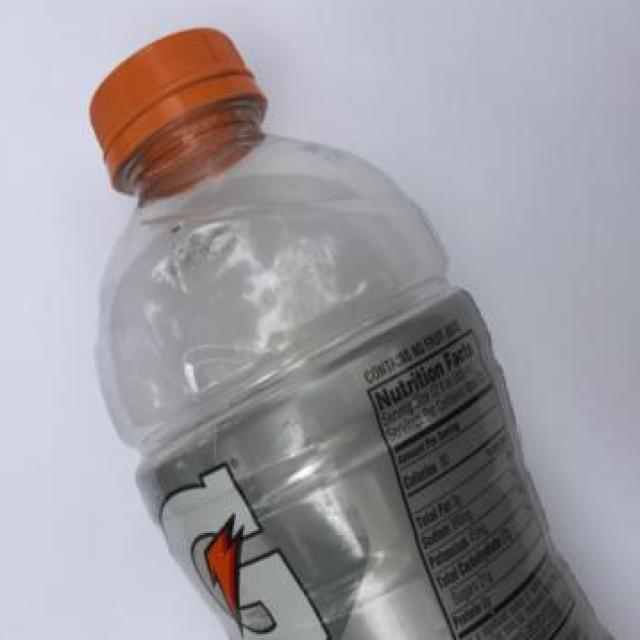organic: (59, 20, 616, 636)
